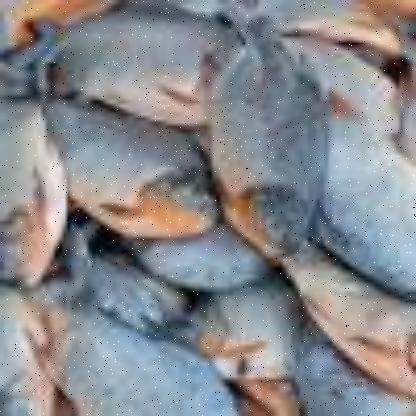ikan-pacu: (212, 20, 324, 248), (46, 96, 212, 240)
